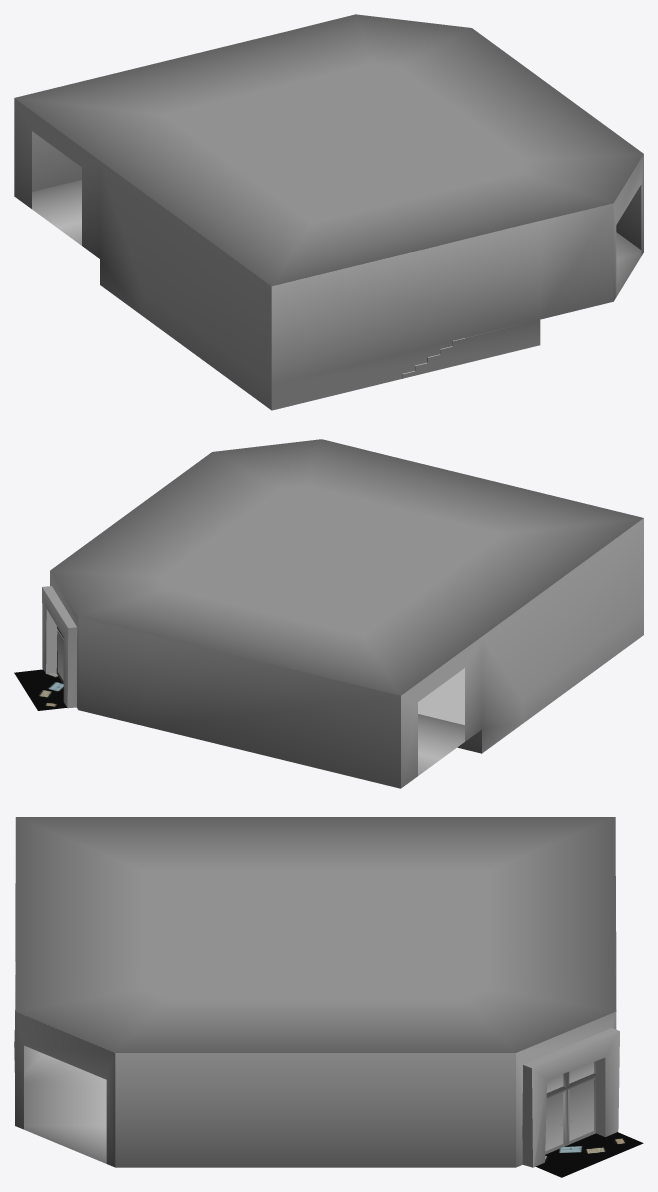
File: office_shop.fbx
3 renders of one model, top to bottom at view 1: azimuth 30°, elevation 25°; view 2: azimuth 150°, elevation 25°; view 3: azimuth 270°, elevation 25°, orthographic. The views are drawn at different scales.
Visible parts, largest first — view 1: Roof, Room; view 2: Roof, Room, Doorframes, LowerFloor, Paper; view 3: Roof, Room, Doorframes, door, Paper.
Part boxes in pixels (x1,y1,x2,y2): Roof: (14, 14, 643, 286); Room: (14, 98, 643, 410); Roof: (50, 439, 643, 695); Room: (50, 452, 643, 788); Doorframes: (42, 586, 77, 708); LowerFloor: (418, 668, 464, 725); Paper: (14, 669, 67, 710); Roof: (15, 817, 616, 1052); Room: (14, 817, 616, 1167); Doorframes: (522, 1028, 619, 1167); door: (545, 1061, 595, 1154); Paper: (536, 1132, 643, 1177).
Size of what is drawn, in the model's own units: 2660 by 729 by 2875.
